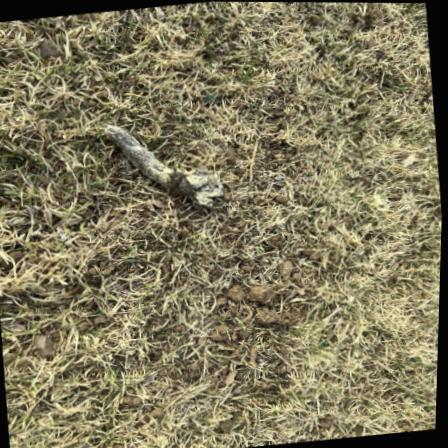dog-poop: (97, 109, 221, 228)
